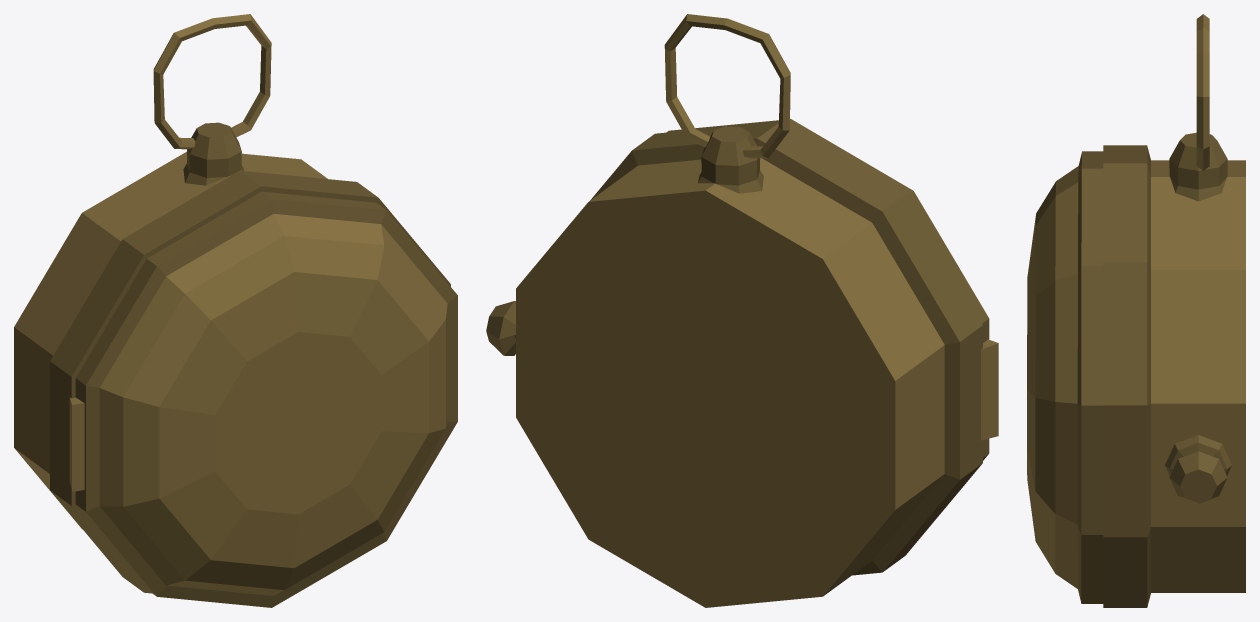
Rendered from Compass_Closed.glb.
3 views of the same model, side by side, from view 1: azimuth 30°, elevation 25°; view 2: azimuth 150°, elevation 25°; view 3: azimuth 270°, elevation 25° (orthographic). The views are drawn at different scales.
Parts seen in each view (by area): view 1: Compass_Closed; view 2: Compass_Closed; view 3: Compass_Closed.
Boxes of the visible parts, x1=… form: Compass_Closed: x1=14, y1=14, x2=457, y2=607; Compass_Closed: x1=486, y1=14, x2=998, y2=607; Compass_Closed: x1=1027, y1=14, x2=1245, y2=607.
Size of the model in its own units: 0.6382 by 0.8054 by 0.284.
